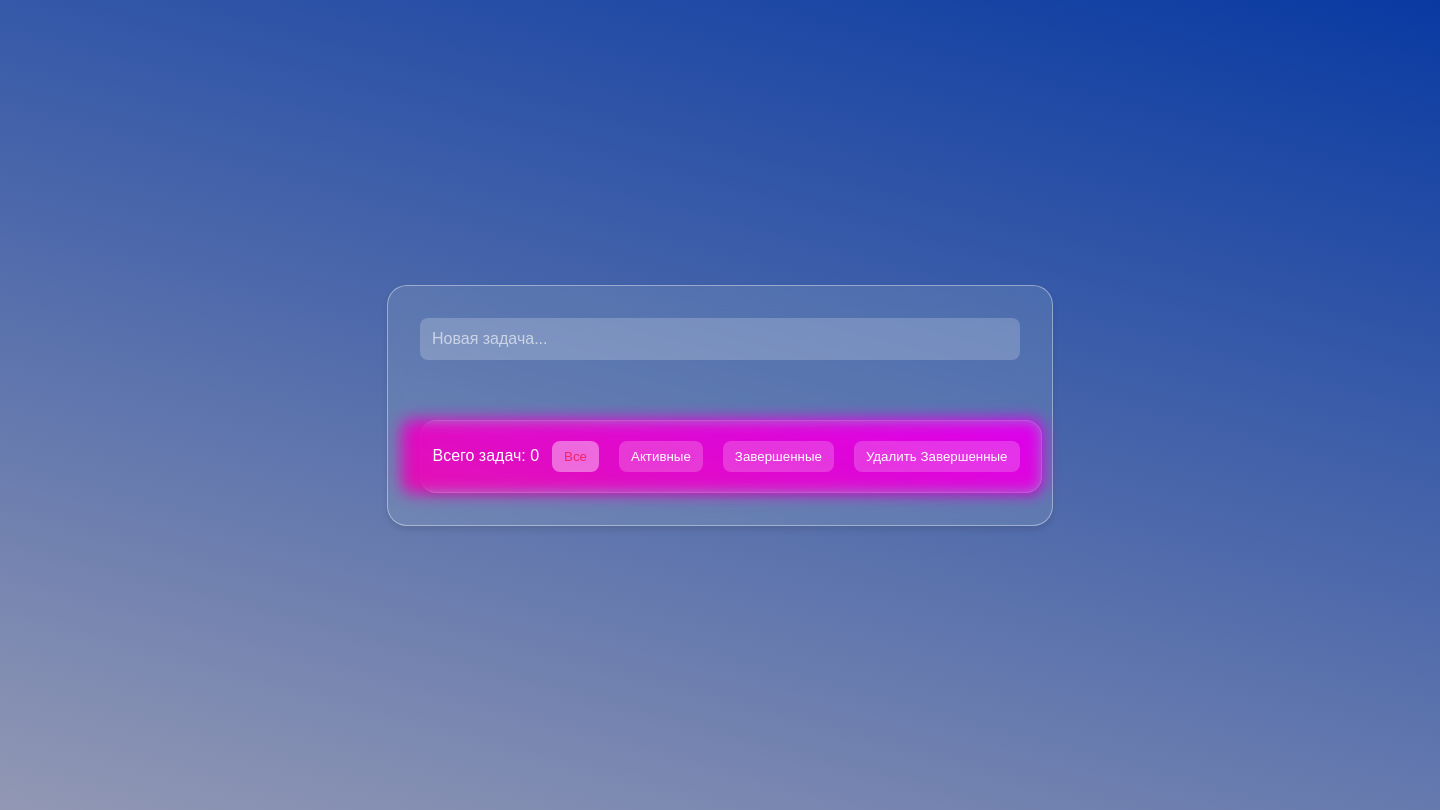
Test: удаление задачи
// Добавляем задачу
Step 1. Type "Тестовая задача для удаления" into the checkbox with placeholder "Новая задача..." → [720, 338], box [420, 318, 1020, 360]
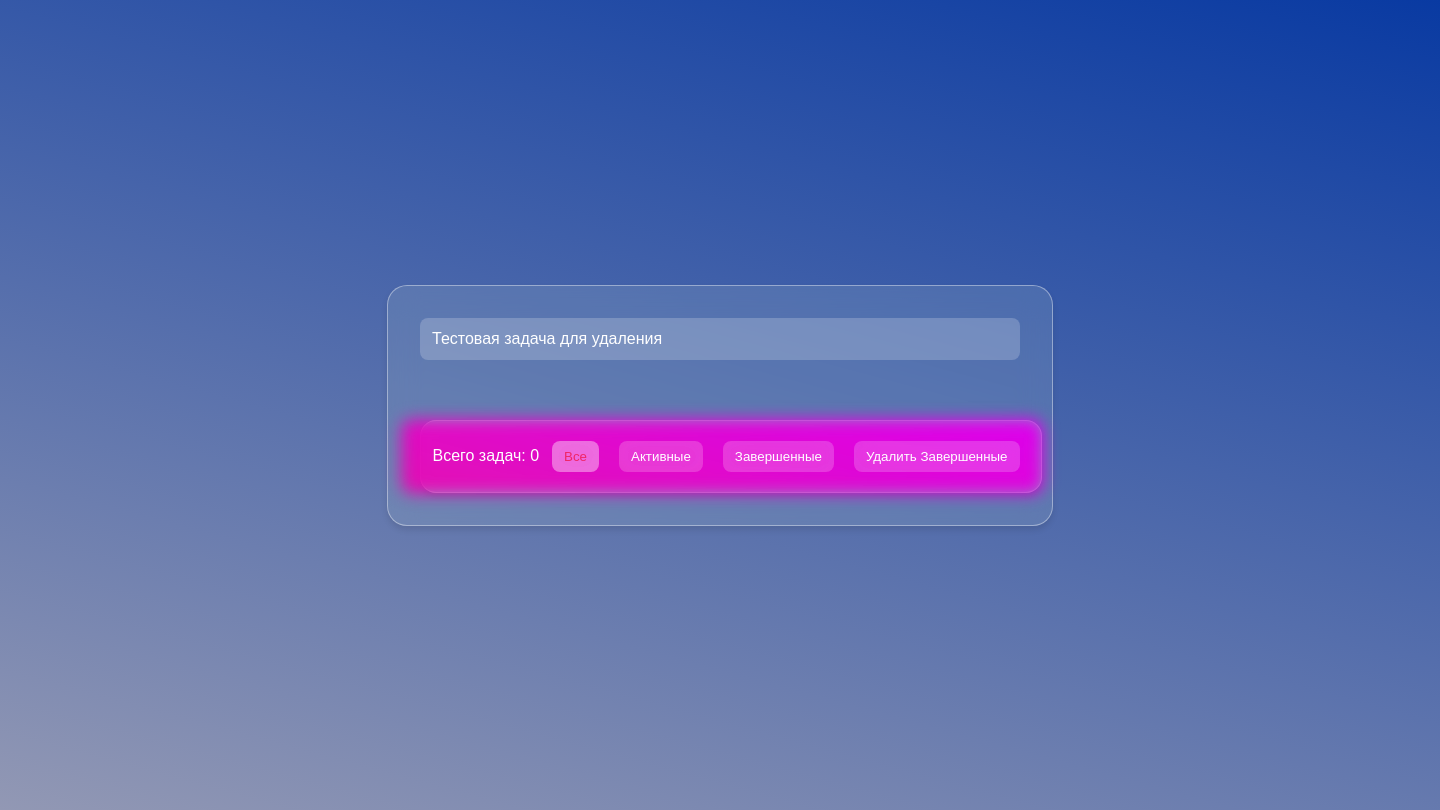
Step 2. Submit the form from the checkbox with placeholder "Новая задача...", box [420, 318, 1020, 360]
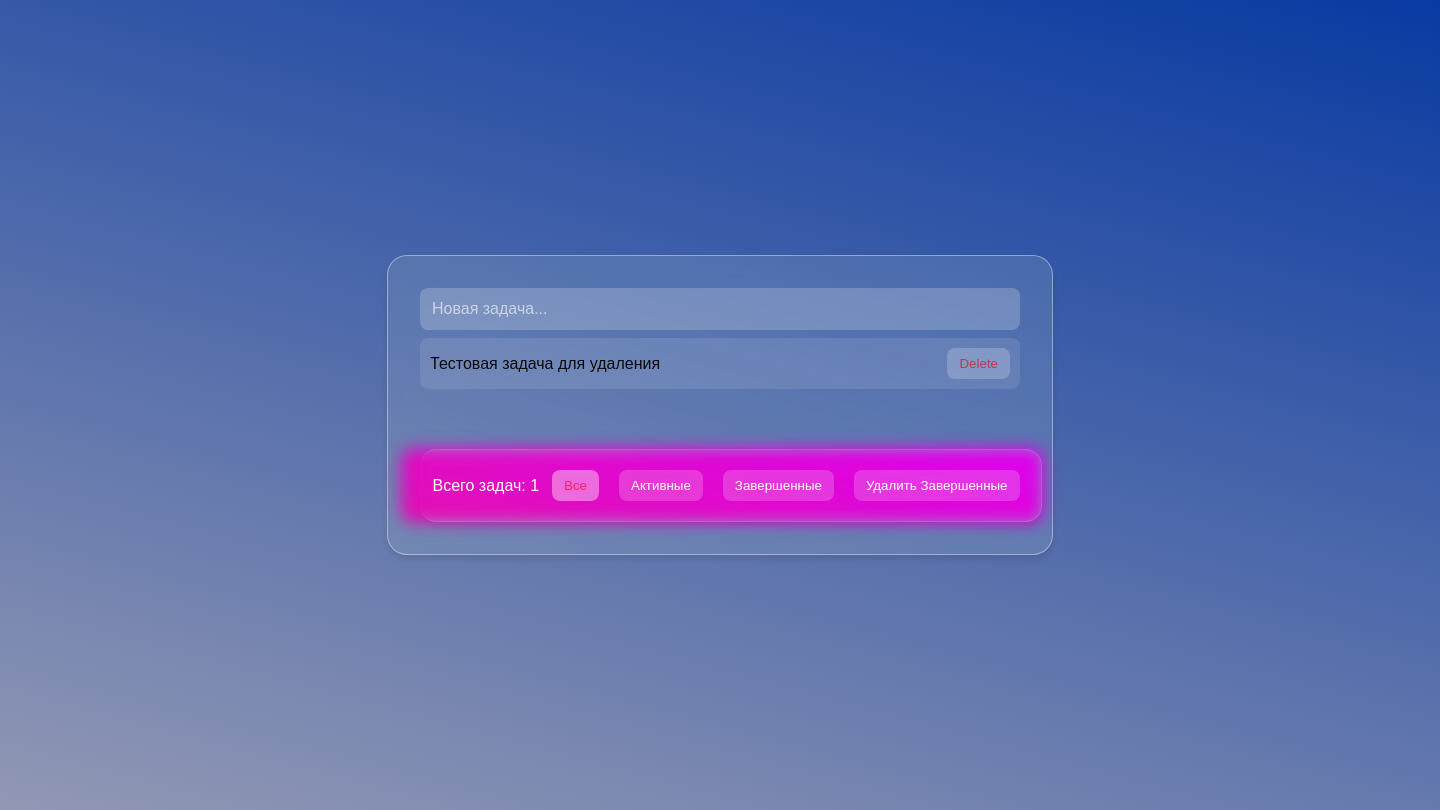
Step 3. Click the button "Delete" → [979, 364], box [948, 348, 1010, 379]
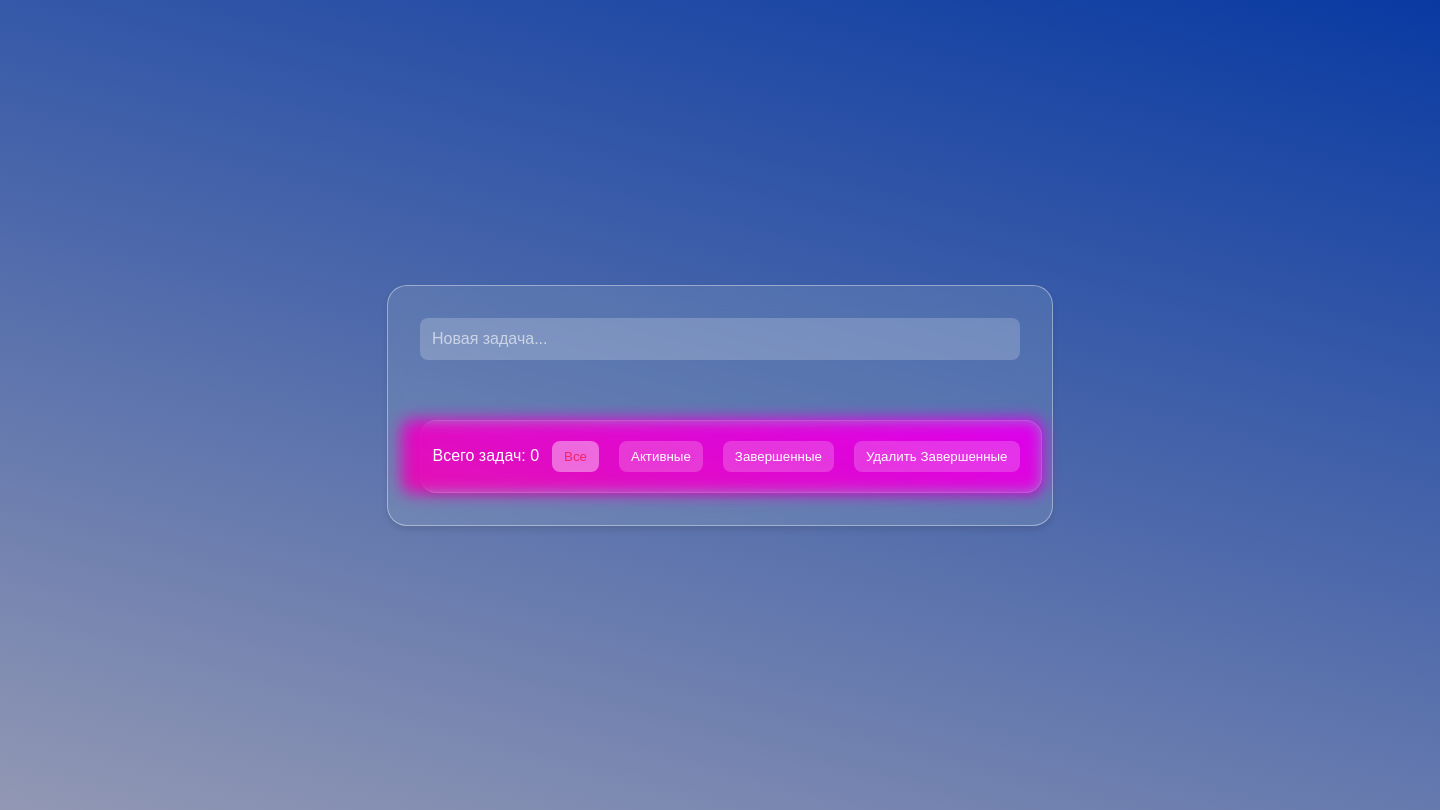
Expected: the text "Тестовая задача для удаления" is gone
